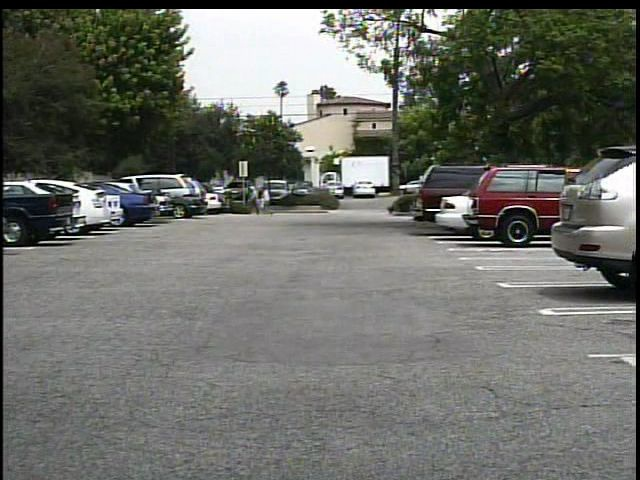person: (247, 184, 262, 216), (262, 184, 276, 217), (256, 185, 268, 216)
